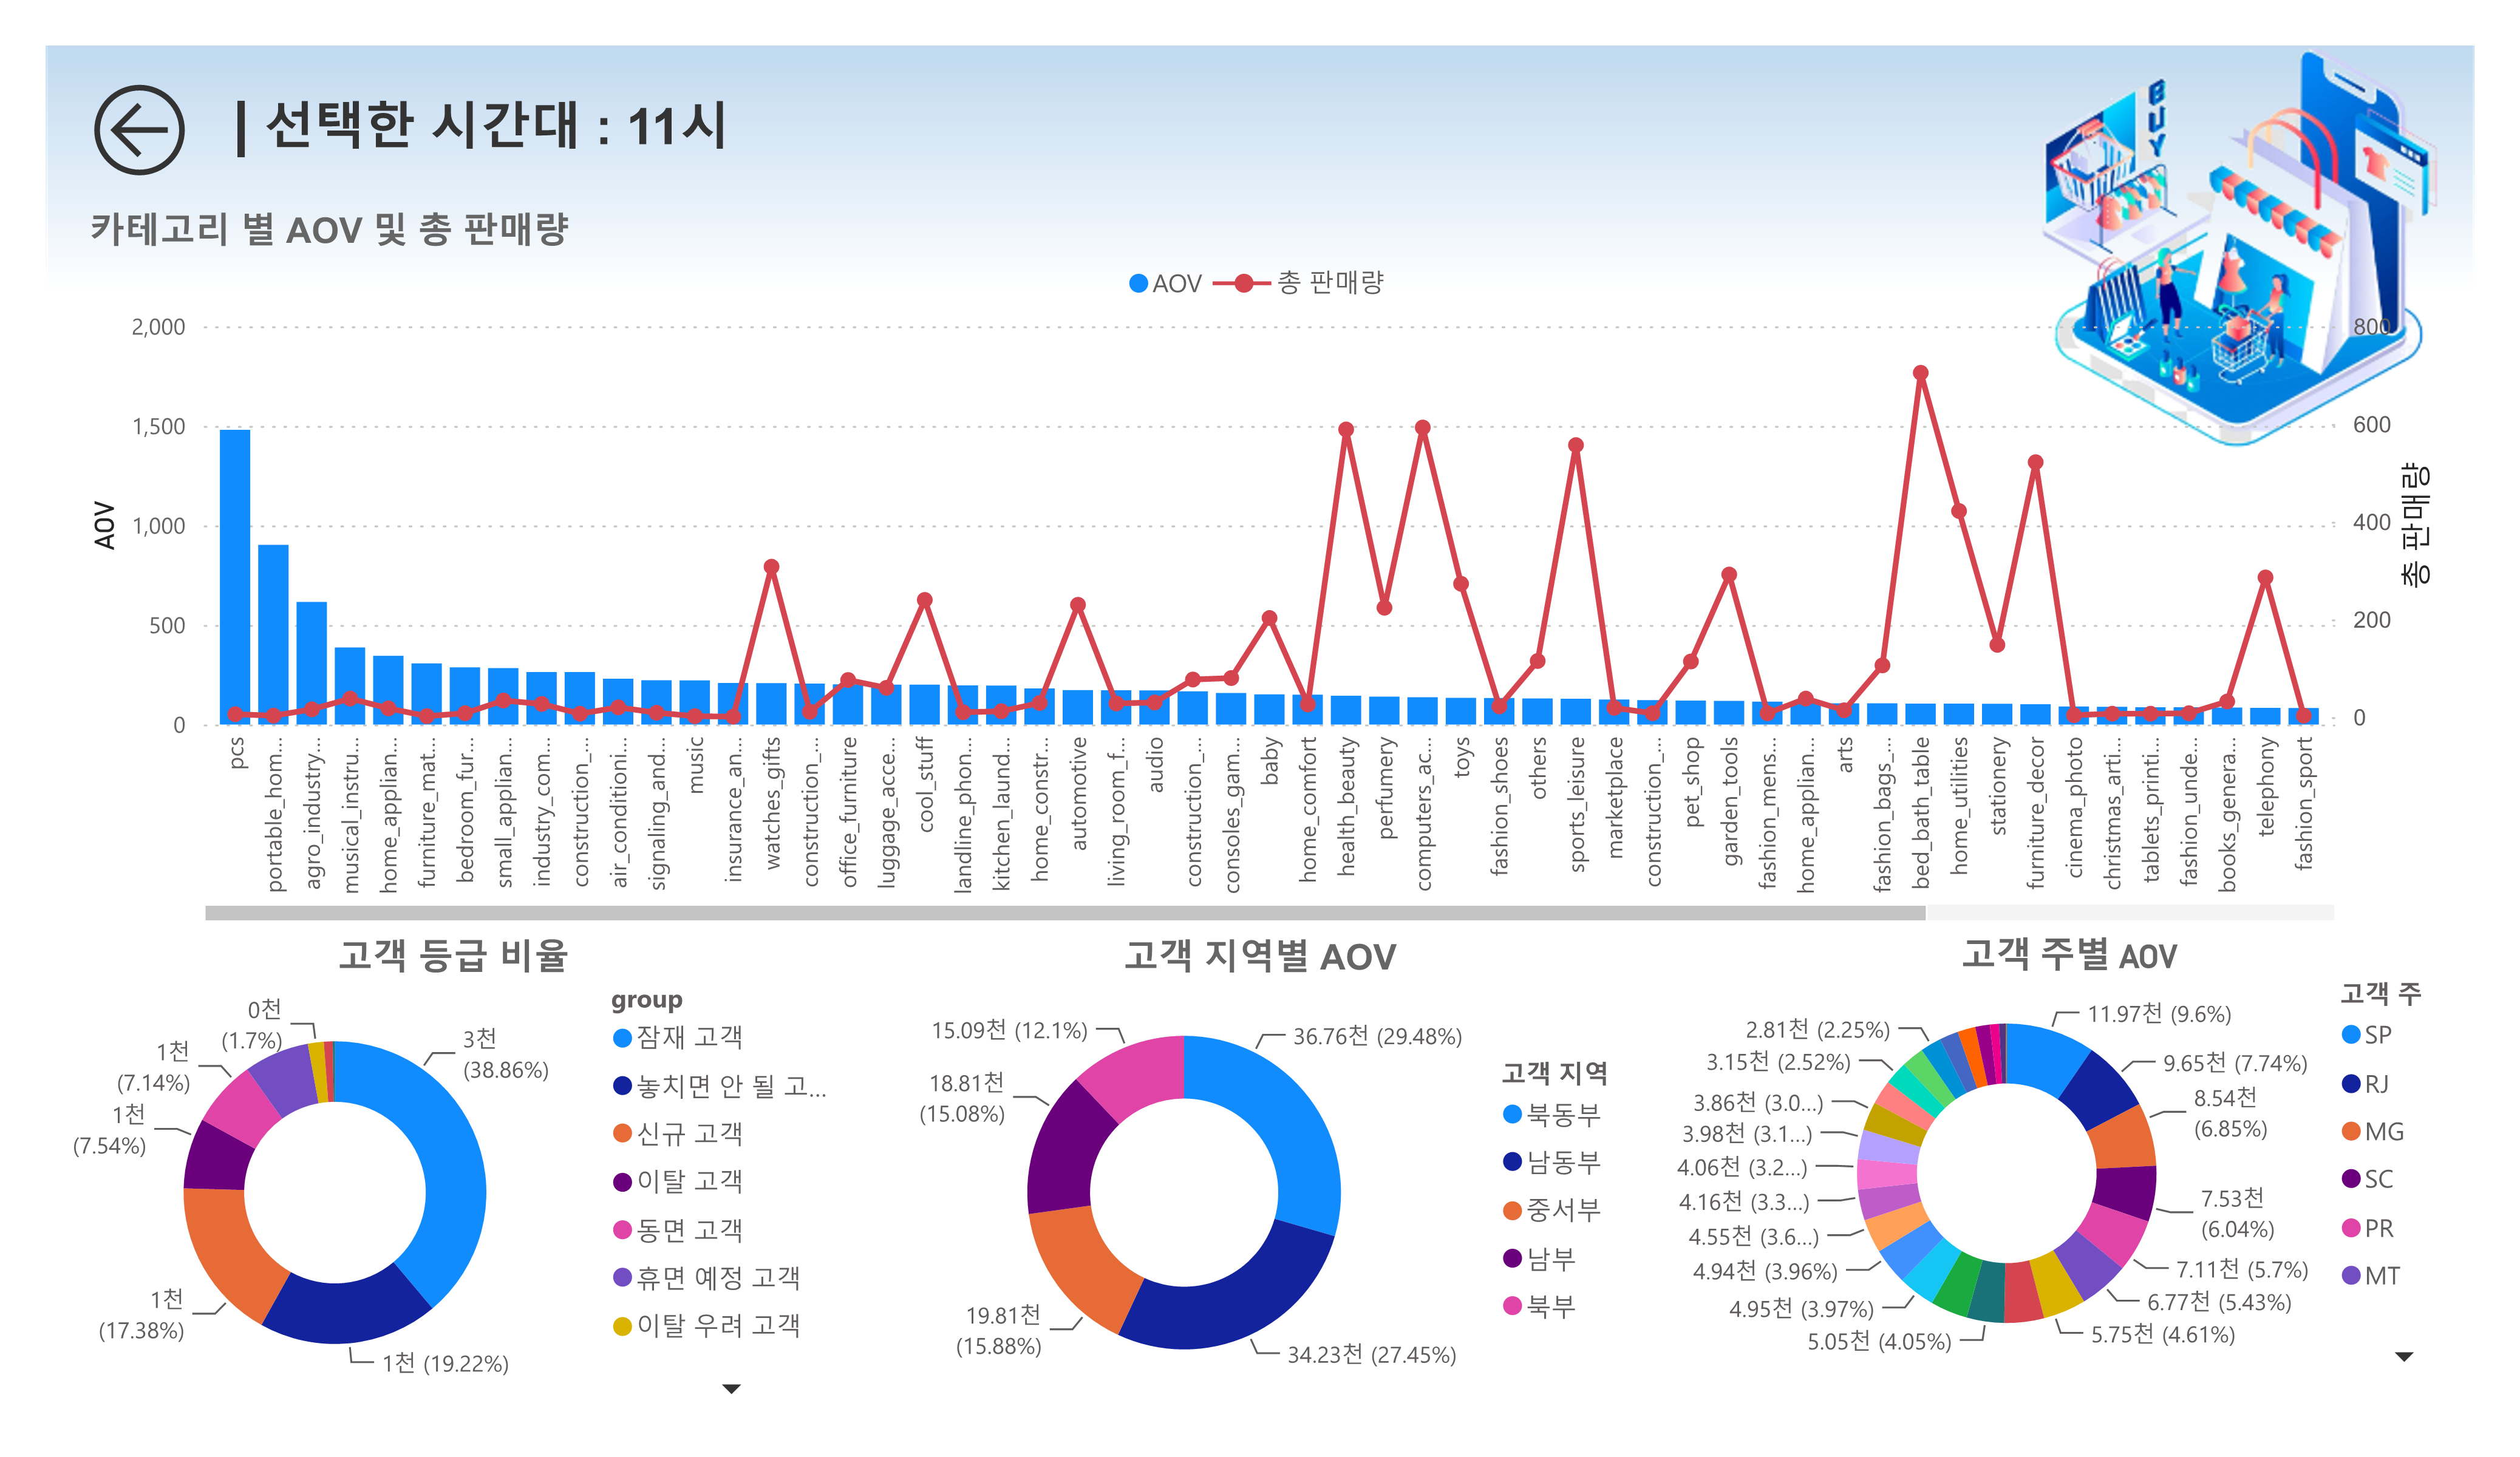

Layout of this report page (visuals, bound fields, positions):
{"tool":"powerbi","page":{"name":"상세 페이지","canvas":[1280,720],"ordinal":1},"visuals":[{"type":"actionButton","box":[19.3,10.9,60.3,66.3],"z":0},{"type":"donutChart","title":"고객 등급 비율","fields":{"Category":["고객등급.group"],"Y":["고객등급.고객 수"]},"box":[1.7,466.5,426.1,254.3],"z":1000},{"type":"donutChart","title":"고객 지역별 AOV","fields":{"Y":["df_ca_re_jo.AOV"],"Category":["지역명.고객 지역"]},"box":[427.8,466.5,424.4,254.3],"z":2000},{"type":"donutChart","title":"고객 주별 AOV","fields":{"Category":["df_ca_re_jo.고객 주"],"Y":["df_ca_re_jo.AOV"]},"box":[853,466.3,426.5,237.3],"z":3000},{"type":"lineClusteredColumnComboChart","title":"카테고리 별 AOV 및 총판매량","fields":{"Y2":["시간대별_카테고리별_AOV.총판매량"],"Y":["시간대별_카테고리별_AOV.AOV"],"Category":["카테고리명.카테고리 이름"]},"box":[18.1,84.3,1244.6,381.9],"z":4000},{"type":"multiRowCard","fields":{"Values":["시간대별AOV.Selected Time"]},"box":[96.5,24.1,442.6,55.5],"z":5000}]}

Visuals, with their boxes on the page's 1280x720 design canvas (x1, y1, x2, y2). These are canvas units, not pixel positions in the 2520x1457 screenshot, which may show the page scaled, cropped or inside an application window:
actionButton: 19 11 80 77
"고객 등급 비율" donutChart: 2 466 428 721
"고객 지역별 AOV" donutChart: 428 466 852 721
"고객 주별 AOV" donutChart: 853 466 1280 704
"카테고리 별 AOV 및 총판매량" lineClusteredColumnComboChart: 18 84 1263 466
multiRowCard - 시간대별AOV.Selected Time: 96 24 539 80
